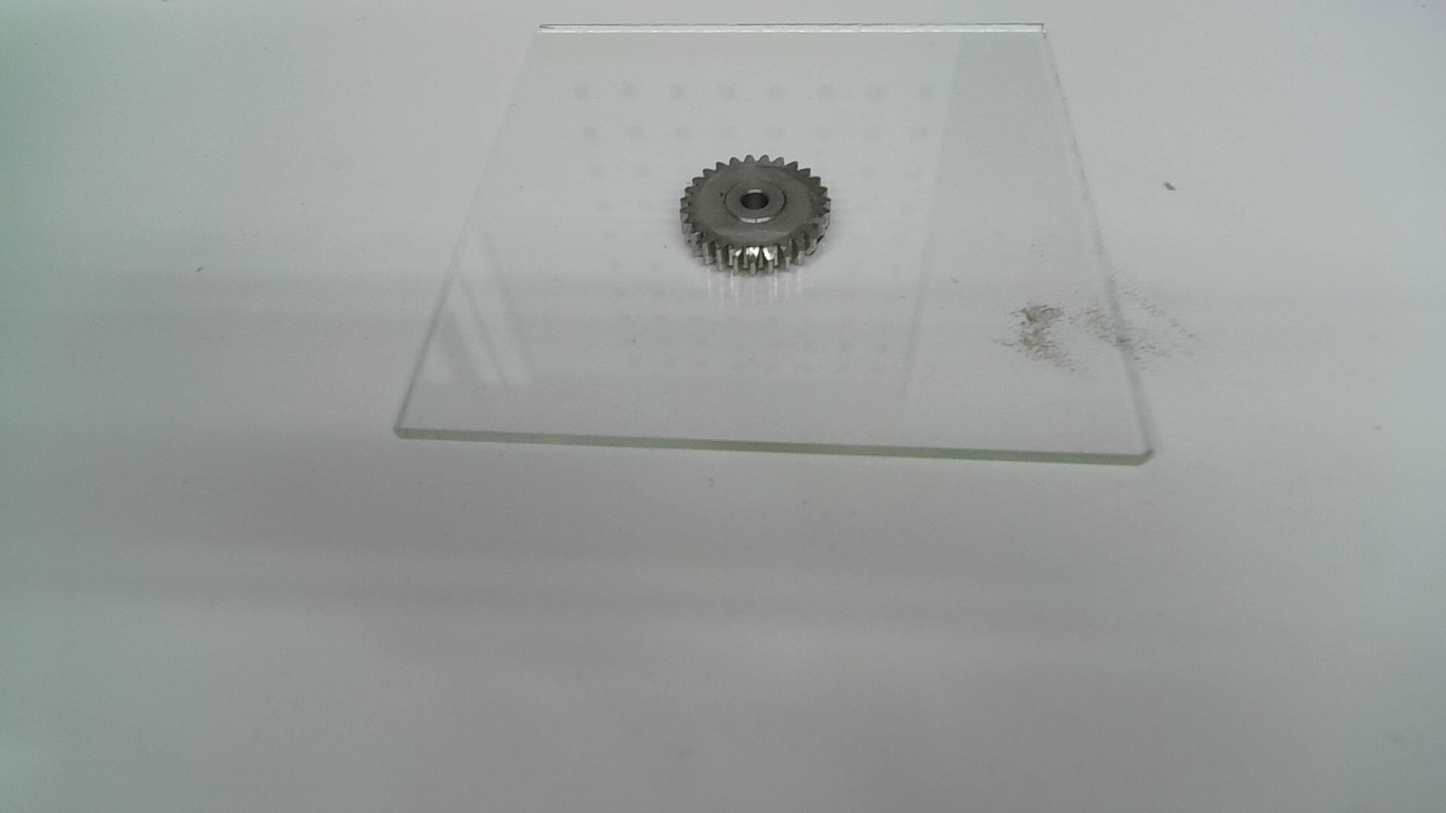gear: (677, 152, 833, 279)
